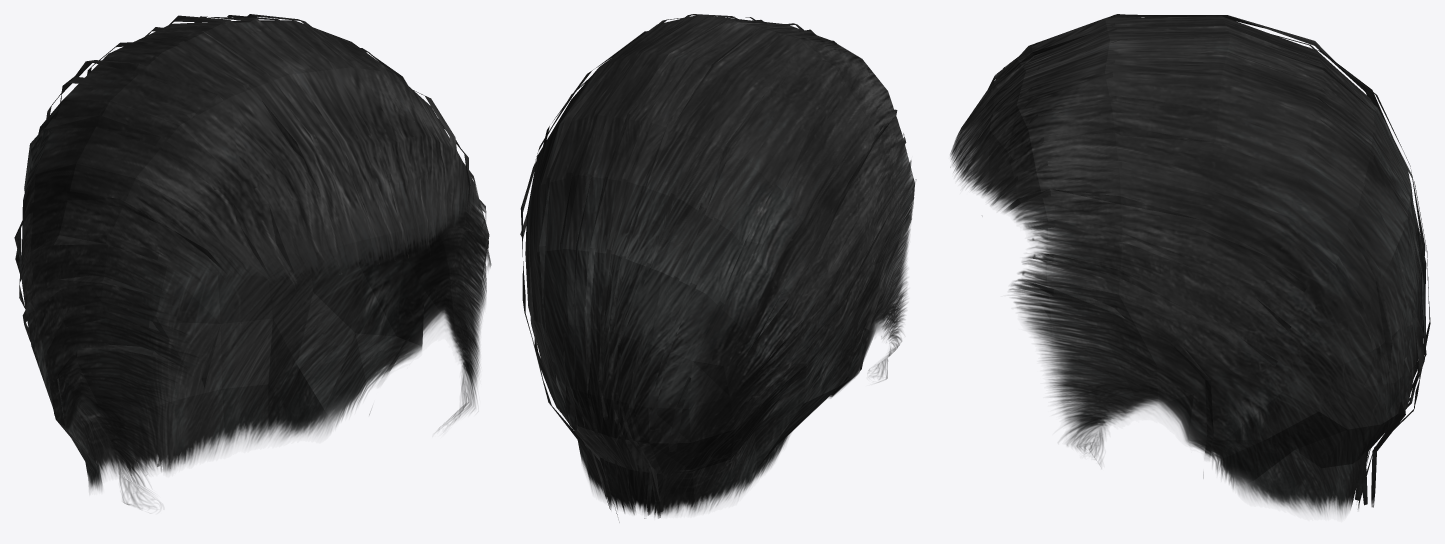
The model's file is skin-fade-cc0.glb.
3 renders of one model, left to right at view 1: azimuth 30°, elevation 25°; view 2: azimuth 150°, elevation 25°; view 3: azimuth 270°, elevation 25°, orthographic. The views are drawn at different scales.
Parts seen in each view (by area): view 1: Node; view 2: Node; view 3: Node.
Boxes of the visible parts, x1=… form: Node: x1=14, y1=14, x2=491, y2=509; Node: x1=520, y1=14, x2=916, y2=522; Node: x1=950, y1=14, x2=1430, y2=515.
Size of the model in its own units: 1.58 by 2.05 by 1.89.
Materials: 1 (1 with a texture image).
